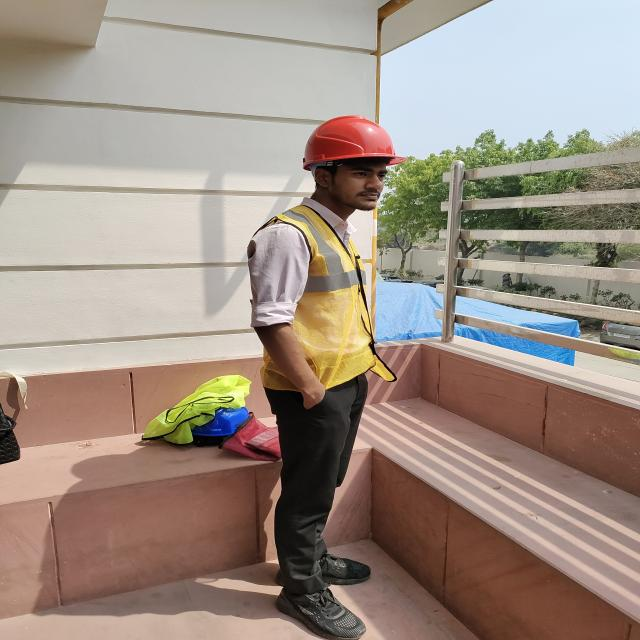safe: (247, 118, 391, 639)
